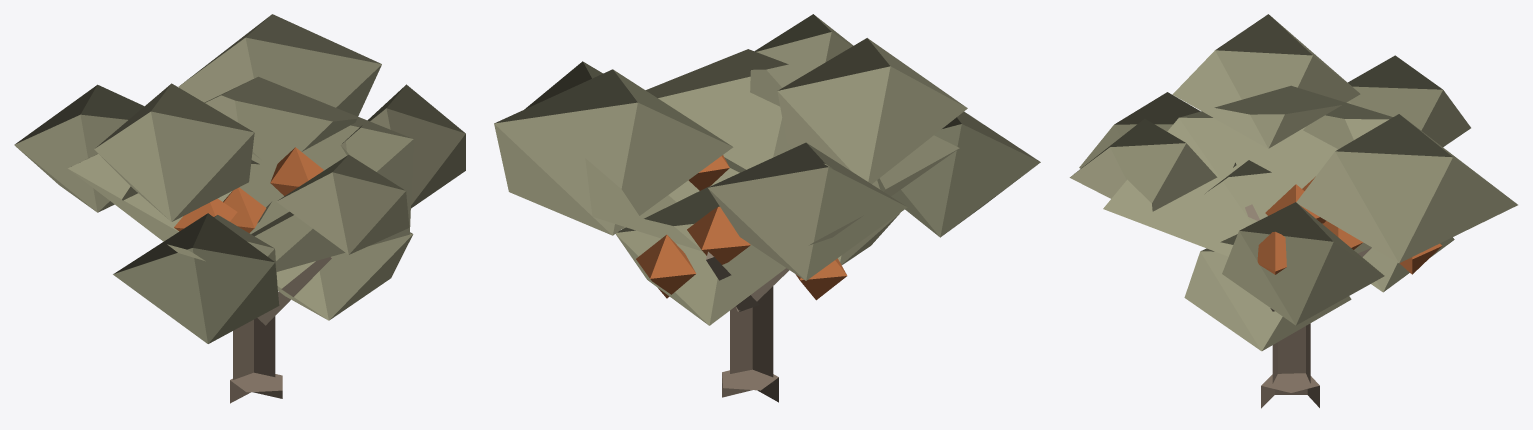
Rendered from tree.sub.citrus__winter.glb.
3 views of the same model, side by side, from view 1: azimuth 30°, elevation 25°; view 2: azimuth 150°, elevation 25°; view 3: azimuth 270°, elevation 25° (orthographic). The views are drawn at different scales.
Parts seen in each view (by area): view 1: tree.sub.citrus__winter; view 2: tree.sub.citrus__winter; view 3: tree.sub.citrus__winter.
Boxes of the visible parts, x1,y1,x2,y2 form: tree.sub.citrus__winter: (14,14,465,403); tree.sub.citrus__winter: (494,14,1040,402); tree.sub.citrus__winter: (1069,14,1517,408).
Bounding box in the file's own units: 5.84 × 5.06 × 5.98.
